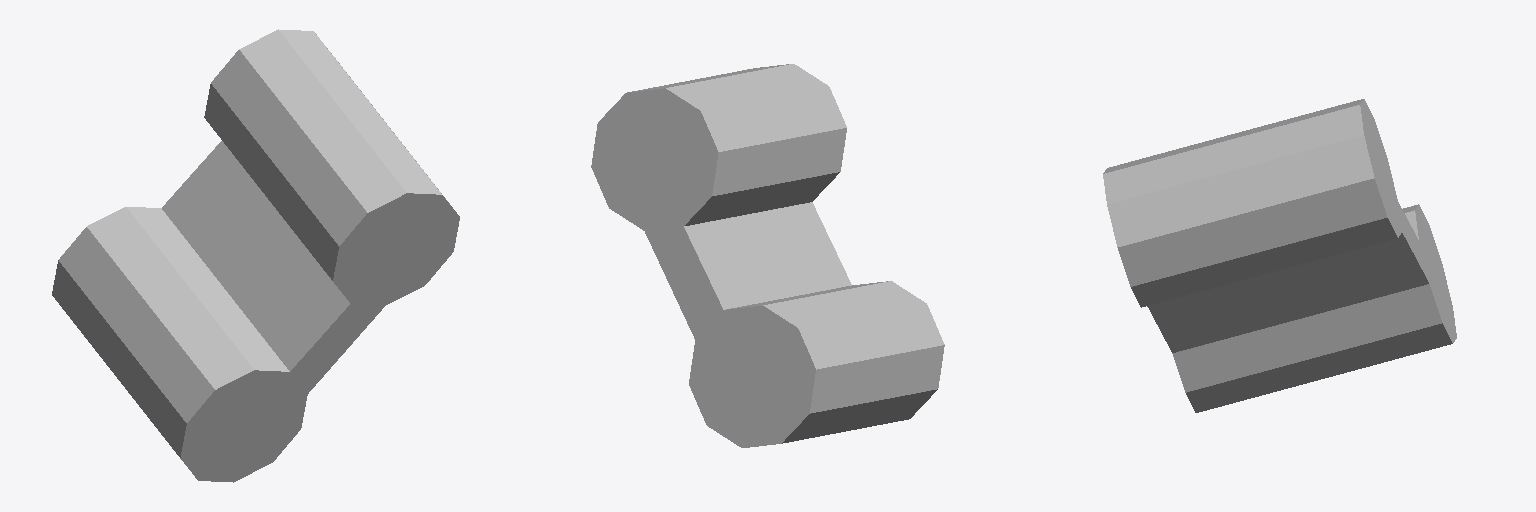
The model's file is Inner_Rings_cuplink_fat.obj.
The picture shows the model from 3 angles: view 1: azimuth 30°, elevation 25°; view 2: azimuth 150°, elevation 25°; view 3: azimuth 270°, elevation 25°; orthographic projection.
Parts seen in each view (by area): view 1: Cylinder.001_Cylinder.009; view 2: Cylinder.001_Cylinder.009; view 3: Cylinder.001_Cylinder.009.
Part boxes in pixels (left/top/right/bottom): Cylinder.001_Cylinder.009: left=52, top=29, right=459, bottom=482; Cylinder.001_Cylinder.009: left=591, top=64, right=944, bottom=447; Cylinder.001_Cylinder.009: left=1103, top=99, right=1456, bottom=412.
Size of the model in its own units: 0.0799 by 0.1129 by 0.0996.